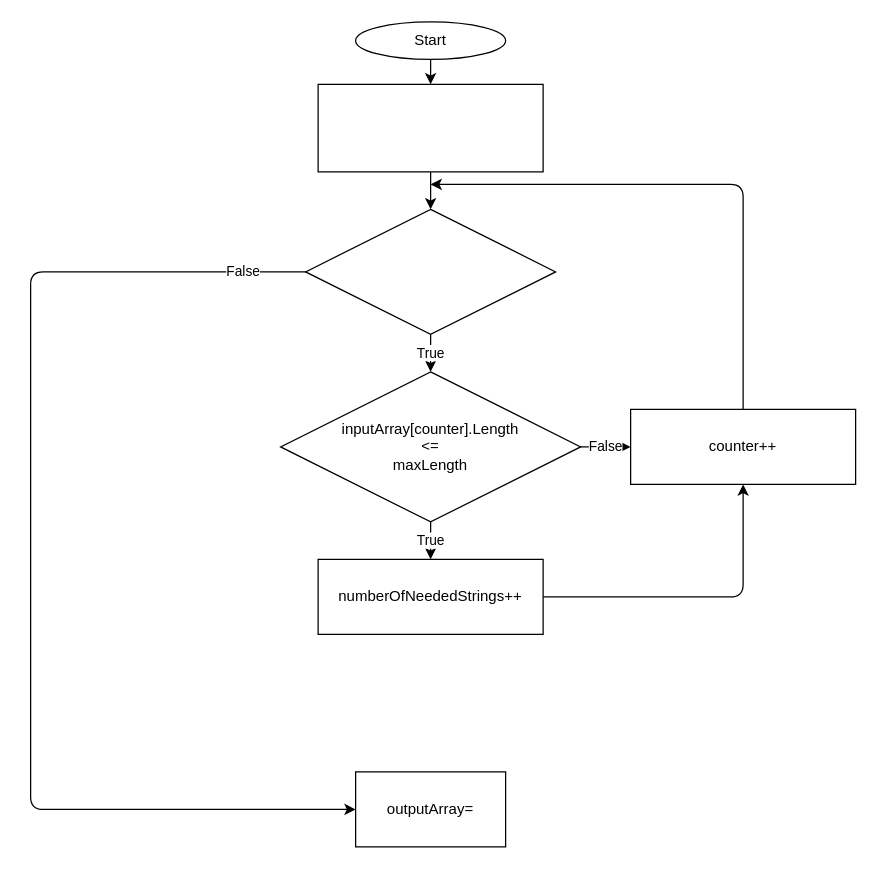
This 878x869 diagram has some shape labels left out. Here are the shapes that lost their labels. From the top down, the centre of each, then its label:
(430,127): inputArray = {...} maxLength = 3 numberOfNeededStrings=0 counter = 0
(430,271): counter < inputArray.Length
